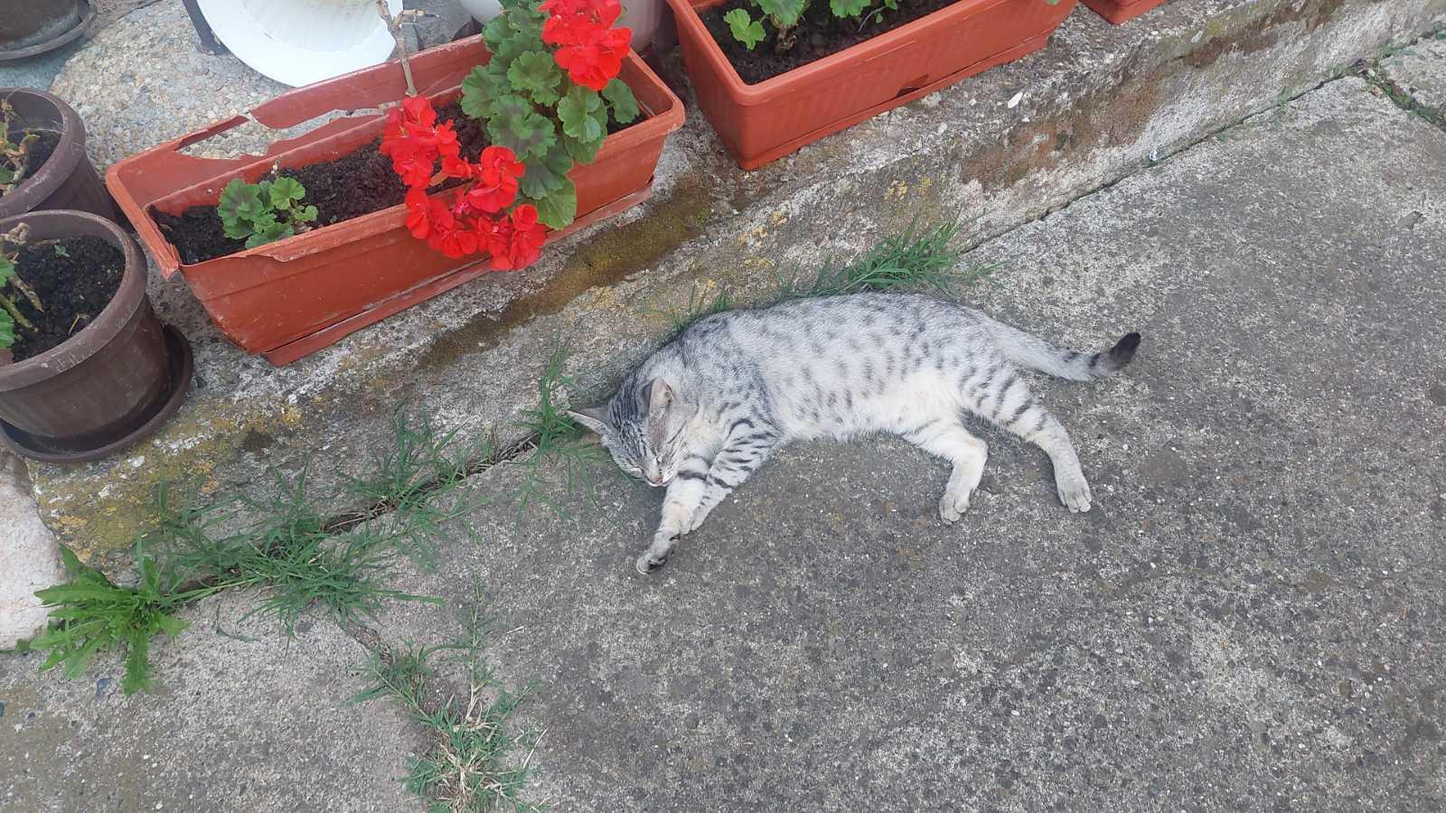macka: (568, 293, 1141, 580)
